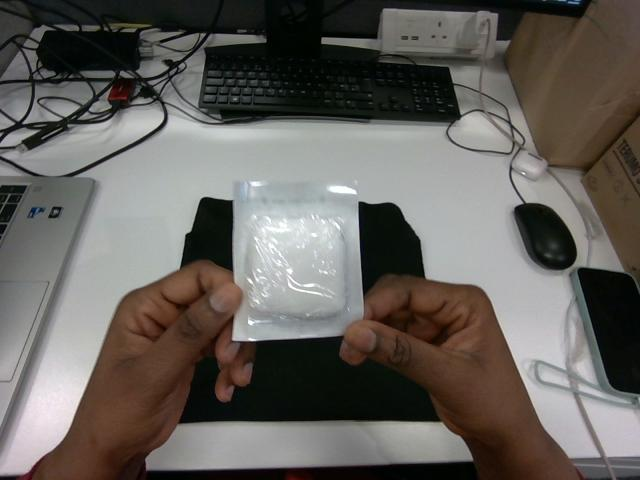gauze: (233, 182, 362, 340)
